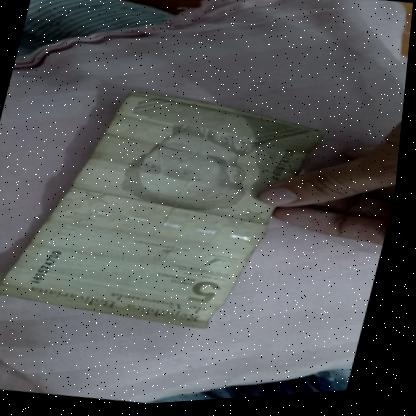five-front-vef: (0, 67, 337, 354)
